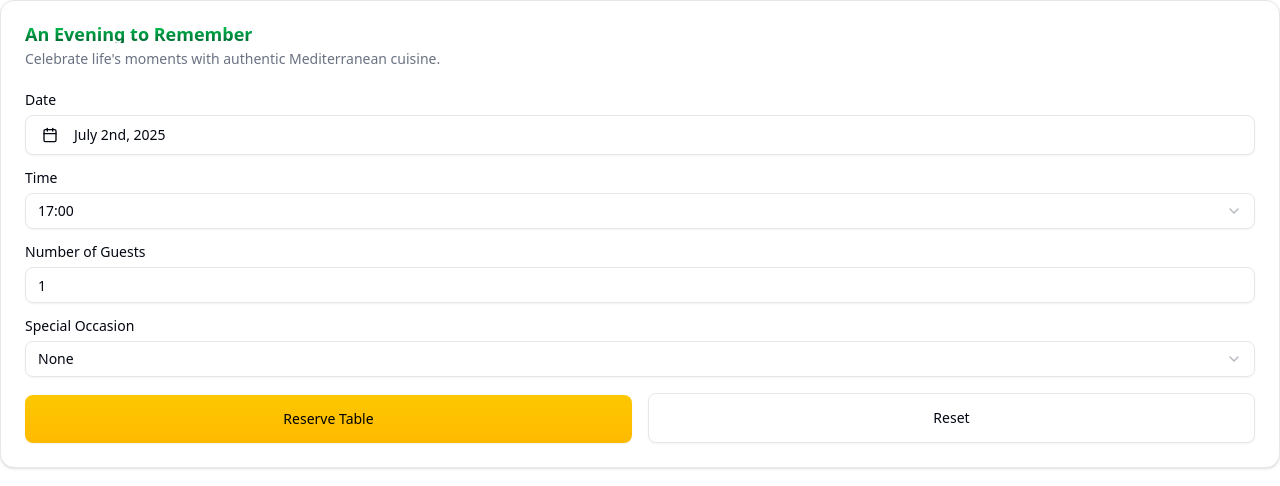
ReservationForm › resets form to default values when reset button is clicked
Type "4" into the number field labelled "Number of Guests" at (640, 285), box [25,267,1255,303]
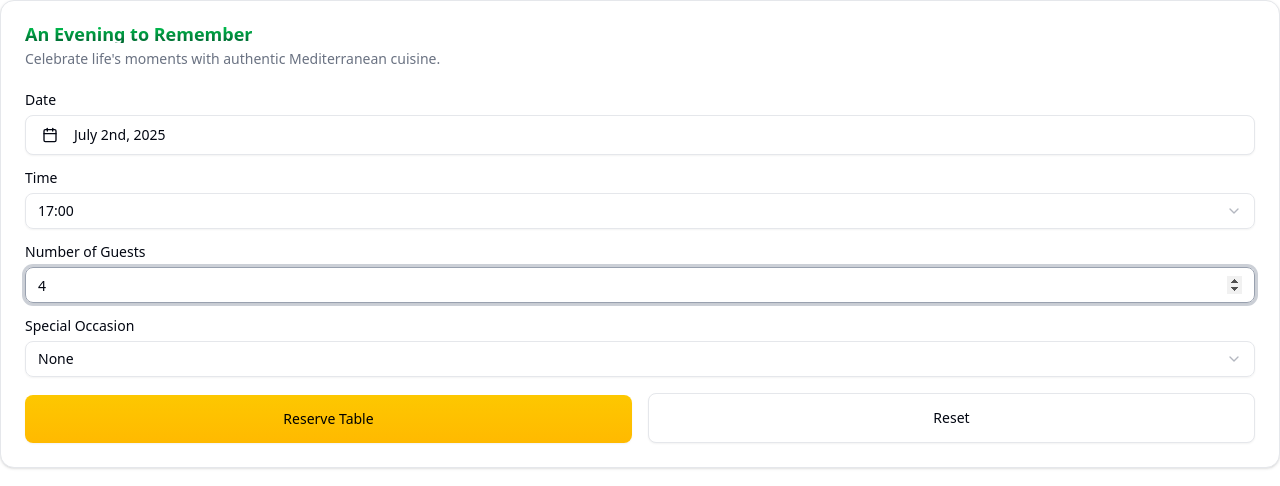
Click the button "Reset" at (952, 418), box [648,393,1255,443]
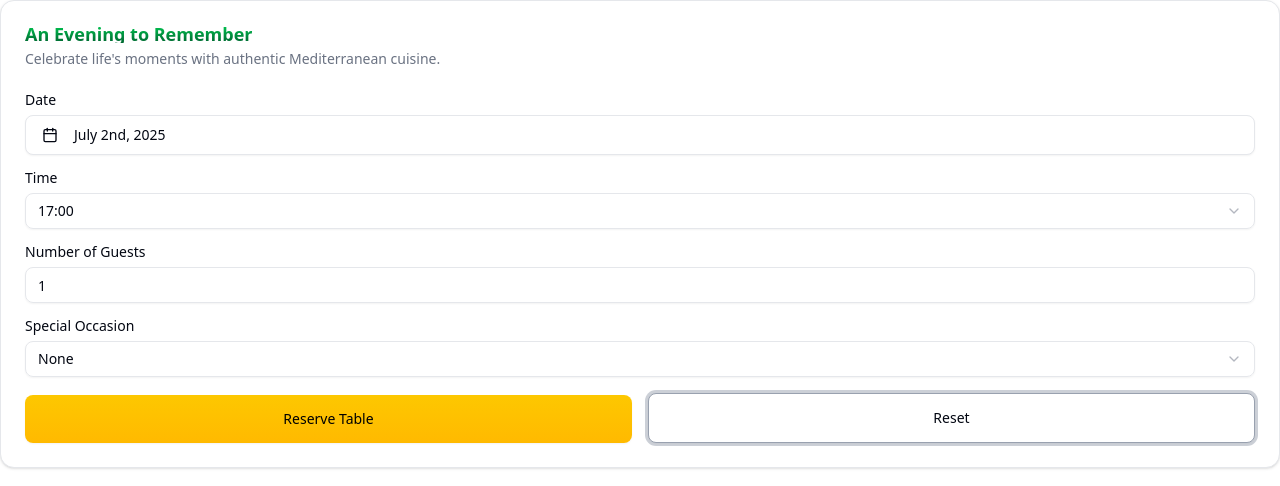
Check: the number field labelled "Number of Guests" holds "1", box [25,267,1255,303]
